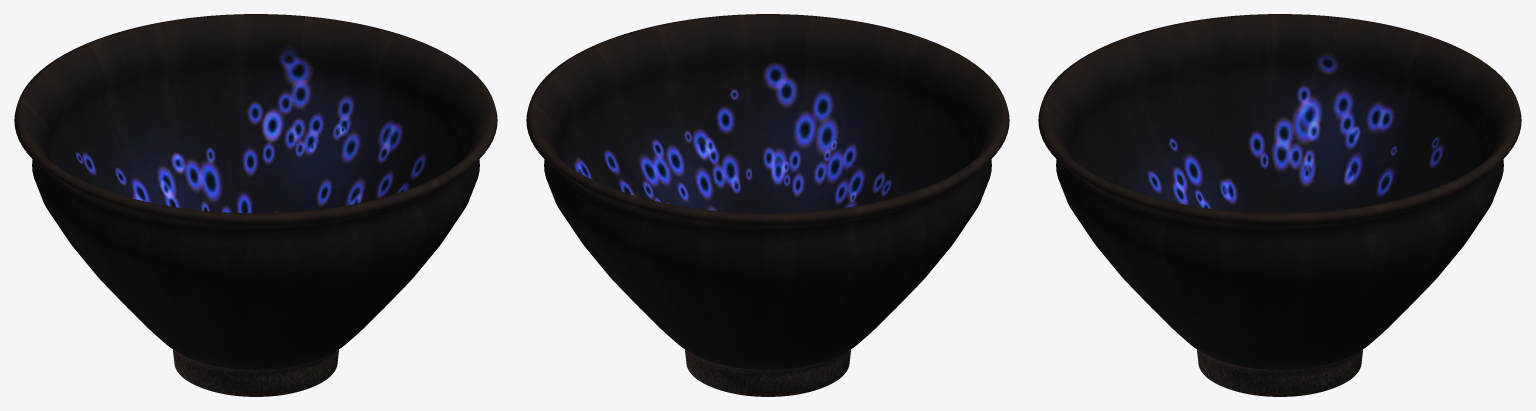
File: SongJianYao_YaobianTeaBowl_Master.glb
3 views of the same model, side by side, from view 1: azimuth 30°, elevation 25°; view 2: azimuth 150°, elevation 25°; view 3: azimuth 270°, elevation 25° (orthographic).
Parts seen in each view (by area): view 1: SongJianYao_YaobianTeaBowl_Master; view 2: SongJianYao_YaobianTeaBowl_Master; view 3: SongJianYao_YaobianTeaBowl_Master.
Boxes of the visible parts, left/top/right/bottom form: SongJianYao_YaobianTeaBowl_Master: left=14, top=14, right=497, bottom=396; SongJianYao_YaobianTeaBowl_Master: left=526, top=14, right=1009, bottom=396; SongJianYao_YaobianTeaBowl_Master: left=1038, top=14, right=1521, bottom=396.
Bounding box in the file's own units: 0.219 × 0.1245 × 0.219.
Materials: 2 (2 with a texture image).
